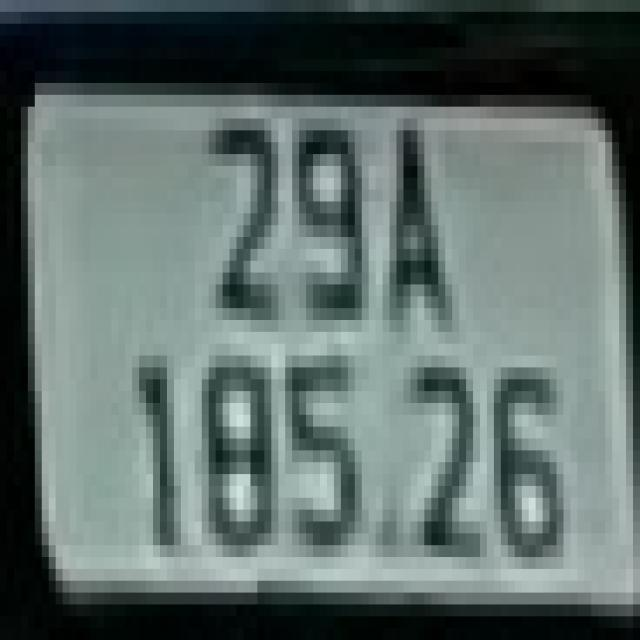1: (125, 343, 188, 558)
2: (202, 107, 286, 320), (403, 356, 487, 558)
5: (285, 343, 362, 558)
6: (494, 356, 570, 568)
8: (202, 343, 278, 558)
9: (292, 118, 369, 320)
A: (383, 118, 466, 332)
